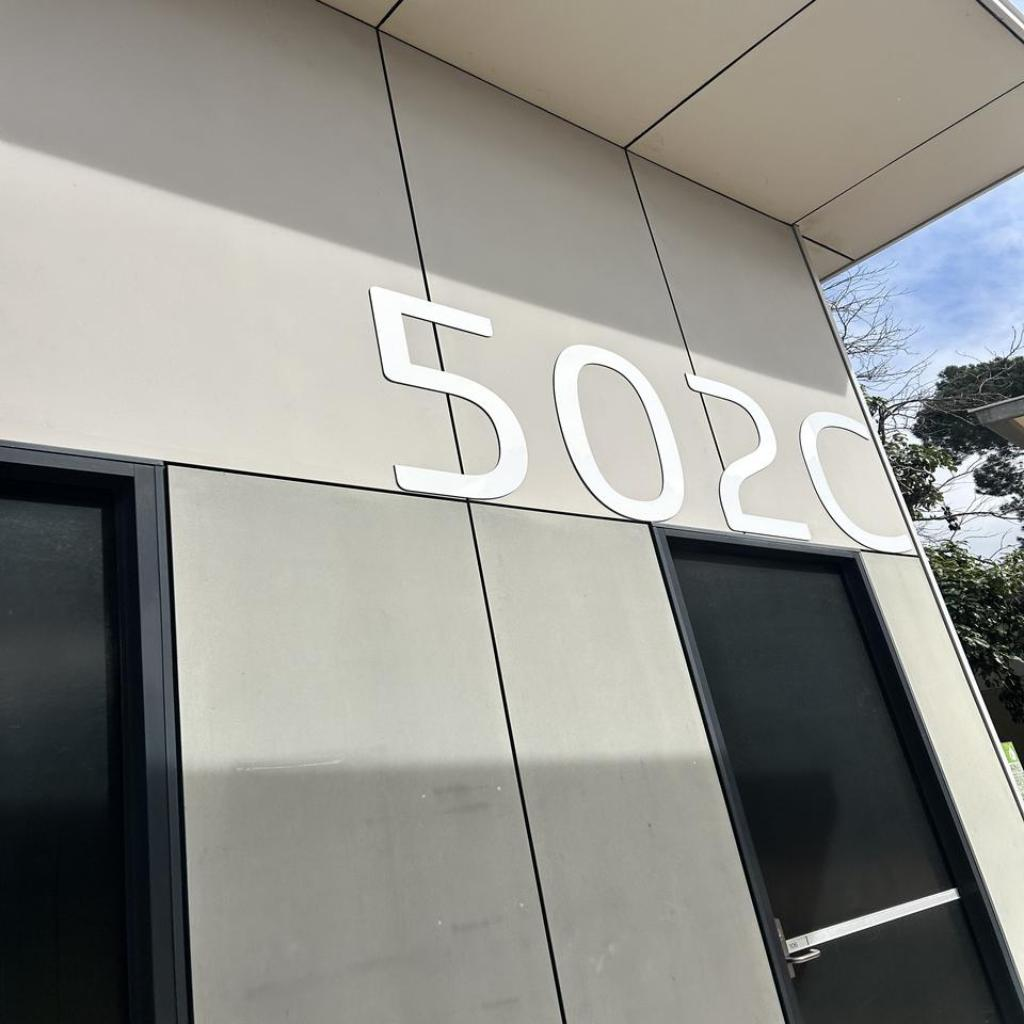BuildingCodes: (366, 282, 916, 556)
